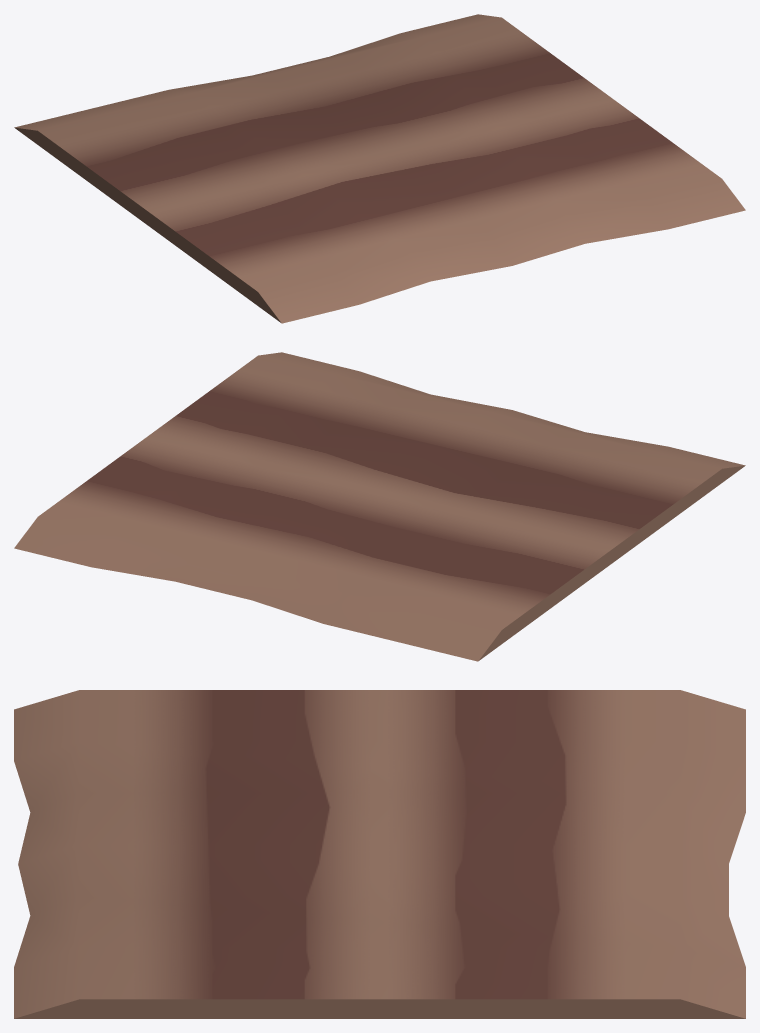
The model's file is Dirt_Road_1_6m.fbx.
3 views of the same model, one above another, from view 1: azimuth 30°, elevation 25°; view 2: azimuth 150°, elevation 25°; view 3: azimuth 270°, elevation 25° (orthographic). The views are drawn at different scales.
Parts seen in each view (by area): view 1: Dirt_Road_1_6m; view 2: Dirt_Road_1_6m; view 3: Dirt_Road_1_6m.
Part boxes in pixels (x1=…): Dirt_Road_1_6m: x1=14, y1=14, x2=745, y2=323; Dirt_Road_1_6m: x1=14, y1=352, x2=745, y2=661; Dirt_Road_1_6m: x1=14, y1=690, x2=745, y2=1018.
Size of the model in its own units: 6 by 0.1754 by 6.
